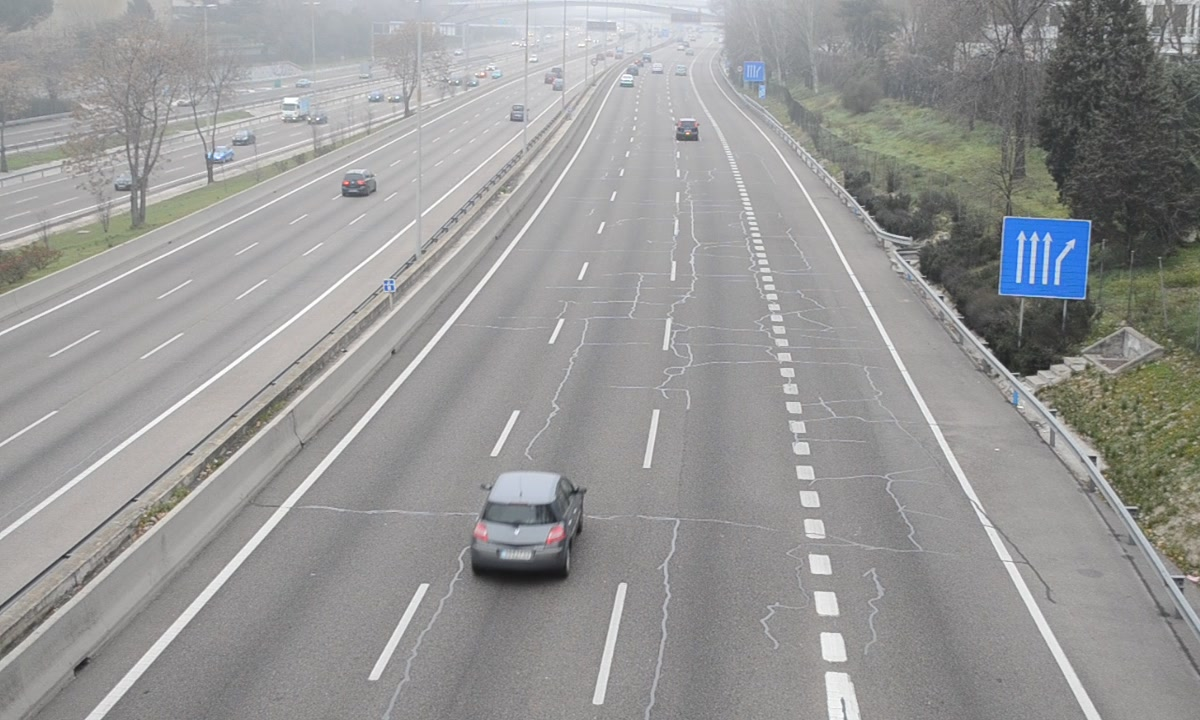car: (470, 474, 583, 573), (675, 118, 698, 142)
